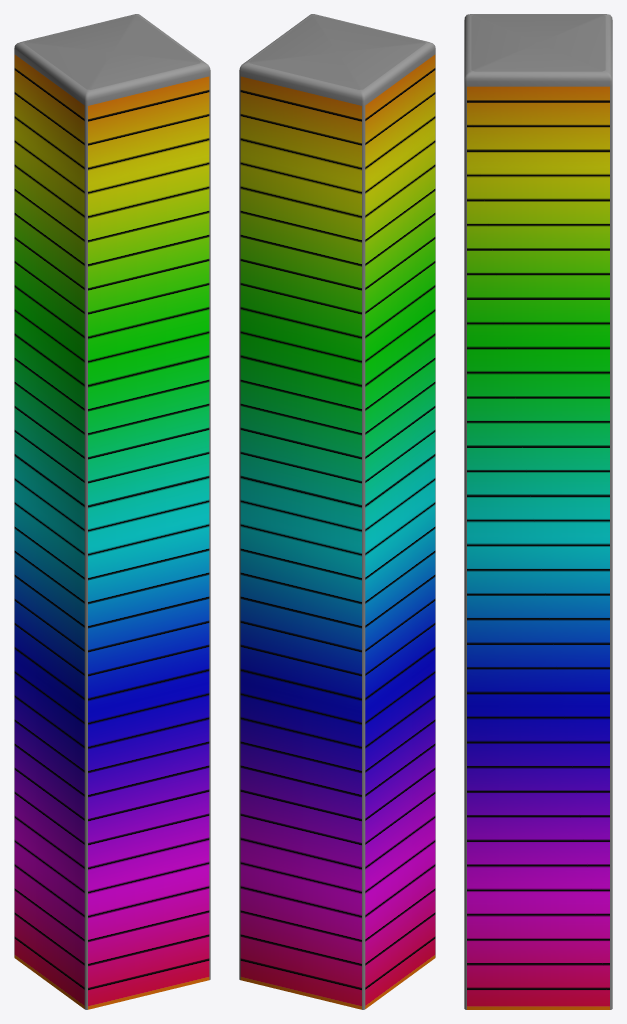
The model's file is FinishPlatform.fbx.
The picture shows the model from 3 angles, left to right: view 1: azimuth 30°, elevation 25°; view 2: azimuth 150°, elevation 25°; view 3: azimuth 270°, elevation 25°; orthographic projection. The views are drawn at different scales.
Parts seen in each view (by area): view 1: Box004; view 2: Box004; view 3: Box004.
Boxes of the visible parts, x1=… form: Box004: x1=14, y1=14, x2=210, y2=1009; Box004: x1=239, y1=14, x2=435, y2=1009; Box004: x1=464, y1=14, x2=612, y2=1009.
Bounding box in the file's own units: 93.23 × 93.23 × 650.
3 materials, 1 textured.
